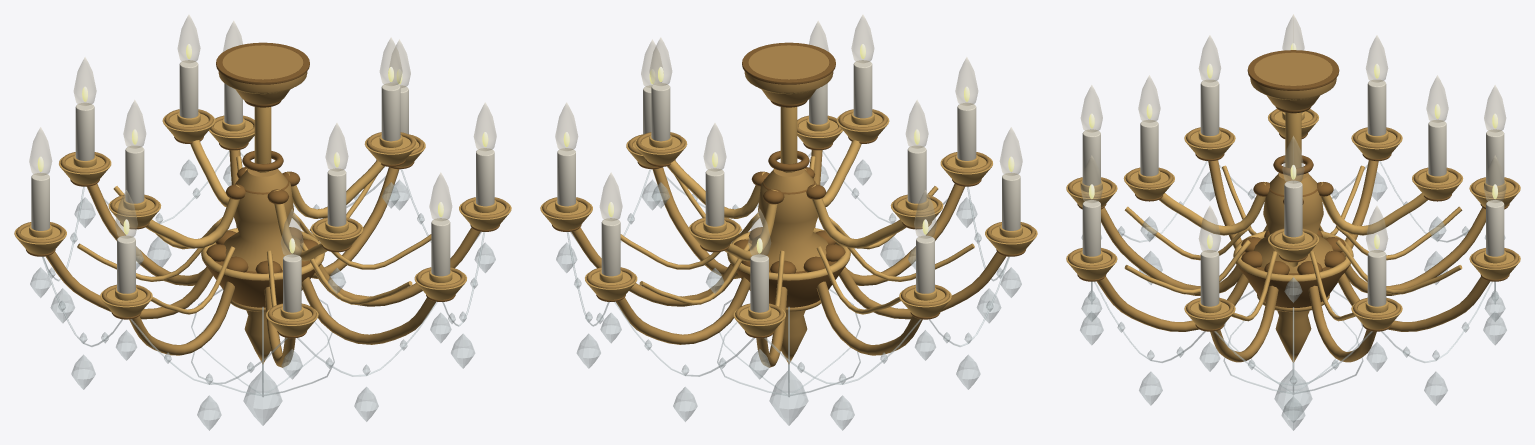
Rendered from ceiling_light_luxury.glb.
3 views of the same model, side by side, from view 1: azimuth 30°, elevation 25°; view 2: azimuth 150°, elevation 25°; view 3: azimuth 270°, elevation 25° (orthographic). The views are drawn at different scales.
Parts seen in each view (by area): view 1: BATCH_Root_AntiqueBrass, BATCH_Root_PolishedBrass_Accent, BATCH_Root_CandleSleeve_Ivory, BATCH_Root_FacetedCrystal, BATCH_Root_CandleBulb_Clear, BATCH_Root_AgedBrass_Recess, BATCH_Root_Emitter_2700K; view 2: BATCH_Root_AntiqueBrass, BATCH_Root_PolishedBrass_Accent, BATCH_Root_CandleSleeve_Ivory, BATCH_Root_FacetedCrystal, BATCH_Root_CandleBulb_Clear, BATCH_Root_AgedBrass_Recess, BATCH_Root_Emitter_2700K; view 3: BATCH_Root_AntiqueBrass, BATCH_Root_PolishedBrass_Accent, BATCH_Root_CandleSleeve_Ivory, BATCH_Root_FacetedCrystal, BATCH_Root_CandleBulb_Clear, BATCH_Root_AgedBrass_Recess, BATCH_Root_Emitter_2700K.
Part boxes in pixels (box(x1,y1,x2,y2)): BATCH_Root_AntiqueBrass: box(16, 45, 509, 367); BATCH_Root_PolishedBrass_Accent: box(14, 88, 511, 336); BATCH_Root_CandleSleeve_Ivory: box(31, 60, 494, 312); BATCH_Root_FacetedCrystal: box(30, 150, 495, 430); BATCH_Root_CandleBulb_Clear: box(29, 15, 496, 257); BATCH_Root_AgedBrass_Recess: box(26, 42, 499, 338); BATCH_Root_Emitter_2700K: box(37, 44, 488, 253); BATCH_Root_AntiqueBrass: box(542, 45, 1035, 367); BATCH_Root_PolishedBrass_Accent: box(540, 88, 1037, 336); BATCH_Root_CandleSleeve_Ivory: box(557, 60, 1020, 312); BATCH_Root_FacetedCrystal: box(556, 150, 1021, 430); BATCH_Root_CandleBulb_Clear: box(555, 15, 1022, 257); BATCH_Root_AgedBrass_Recess: box(552, 42, 1025, 338); BATCH_Root_Emitter_2700K: box(563, 44, 1014, 253); BATCH_Root_AntiqueBrass: box(1068, 52, 1518, 362); BATCH_Root_PolishedBrass_Accent: box(1066, 94, 1520, 329); BATCH_Root_CandleSleeve_Ivory: box(1082, 79, 1504, 306); BATCH_Root_FacetedCrystal: box(1080, 161, 1506, 430); BATCH_Root_CandleBulb_Clear: box(1080, 14, 1506, 253); BATCH_Root_AgedBrass_Recess: box(1077, 50, 1509, 331); BATCH_Root_Emitter_2700K: box(1089, 43, 1497, 248).
Size of what is drawn, in the model's own units: 1.53 by 1.32 by 1.53.
